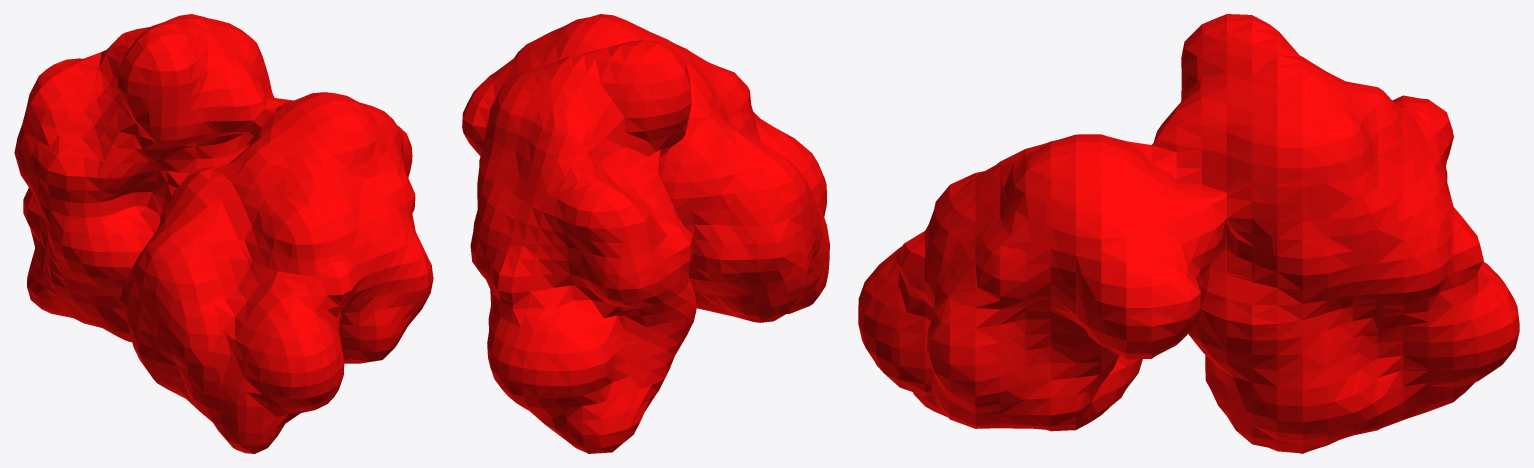
File: eutL_coarse.dae
3 renders of one model, left to right at view 1: azimuth 30°, elevation 25°; view 2: azimuth 150°, elevation 25°; view 3: azimuth 270°, elevation 25°, orthographic. The views are drawn at different scales.
Visible parts, largest first — view 1: eutL; view 2: eutL; view 3: eutL.
Boxes of the visible parts, bbox=[...] form: eutL: bbox=[14, 14, 433, 453]; eutL: bbox=[462, 14, 829, 453]; eutL: bbox=[858, 14, 1519, 453].
Size of the model in its own units: 54.46 by 58.28 by 84.02.
